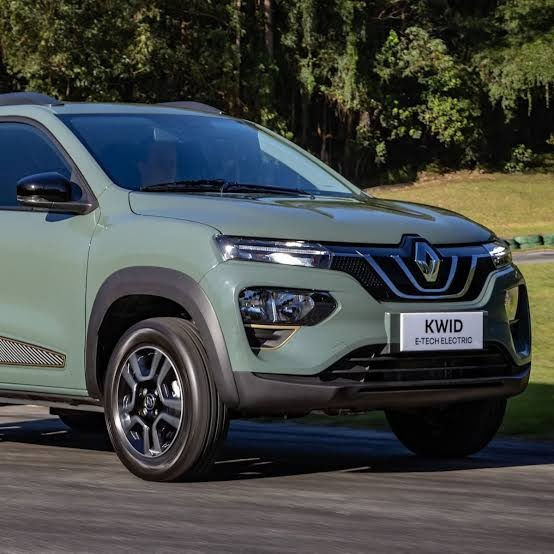car: (1, 89, 545, 478)
